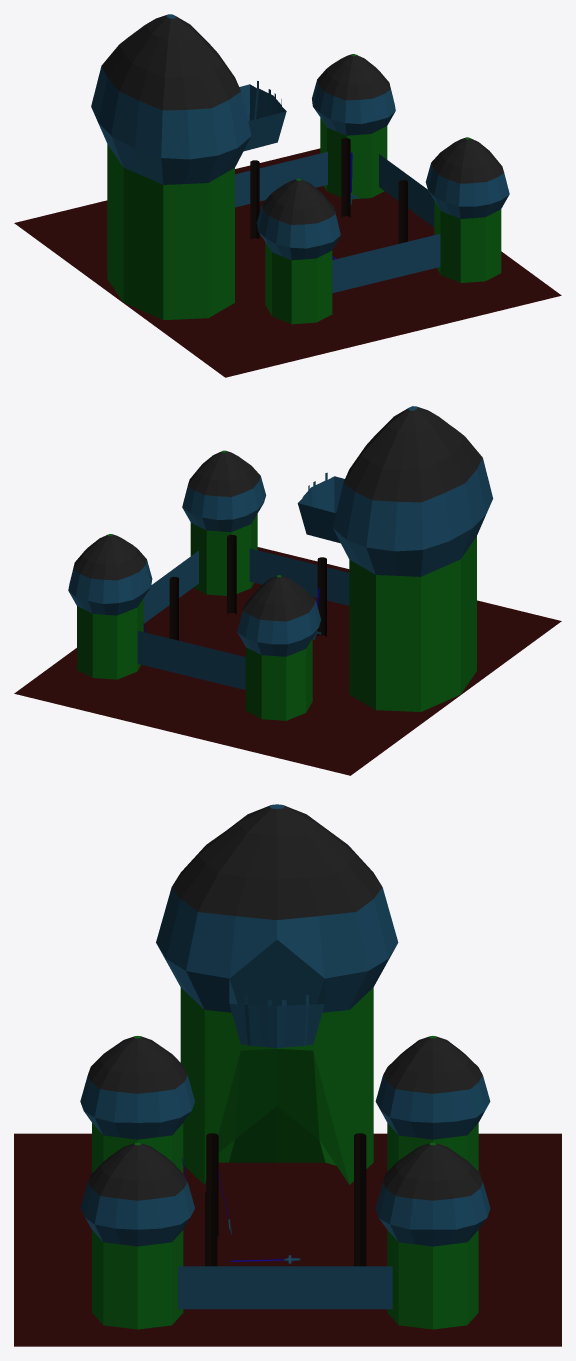
File: SwordsSmith.obj
The picture shows the model from 3 angles, top to bottom: view 1: azimuth 30°, elevation 25°; view 2: azimuth 150°, elevation 25°; view 3: azimuth 270°, elevation 25°; orthographic projection. The views are drawn at different scales.
Parts seen in each view (by area): view 1: Plane, Cube, Plane.004, Plane.001, Plane.002, Plane.007, Plane.008, Plane.003, Cube.002, Cube.003, Cube.001; view 2: Plane, Cube, Plane.005, Plane.002, Plane.001, Plane.008, Plane.007, Plane.003, Cube.001, Cube.004, Cube.002; view 3: Plane, Cube, Plane.002, Plane.001, Plane.004, Plane.005, Plane.003, Cube.001, Cube.002, Cube.004, Cube.003.
Boxes of the visible parts, box(x1,y1,x2,y2) form: Plane: box(91, 14, 286, 320); Cube: box(14, 148, 561, 377); Plane.004: box(256, 178, 340, 324); Plane.001: box(425, 137, 509, 282); Plane.002: box(312, 54, 395, 199); Plane.007: box(332, 234, 440, 293); Plane.008: box(235, 151, 327, 207); Plane.003: box(379, 154, 434, 226); Cube.002: box(341, 138, 350, 217); Cube.003: box(250, 160, 259, 239); Cube.001: box(398, 180, 407, 243); Plane: box(297, 406, 493, 711); Cube: box(14, 547, 561, 775); Plane.005: box(237, 575, 321, 720); Plane.002: box(68, 534, 152, 679); Plane.001: box(182, 450, 266, 595); Plane.008: box(137, 631, 245, 689); Plane.007: box(249, 548, 349, 605); Plane.003: box(143, 550, 198, 623); Cube.001: box(227, 534, 236, 614); Cube.004: box(317, 557, 326, 636); Cube.002: box(169, 576, 178, 640); Plane: box(156, 804, 398, 1184); Cube: box(14, 1133, 561, 1346); Plane.002: box(375, 1142, 490, 1329); Plane.001: box(80, 1142, 194, 1329); Plane.004: box(80, 1035, 194, 1173); Plane.005: box(375, 1036, 490, 1171); Plane.003: box(178, 1266, 392, 1309); Cube.001: box(205, 1190, 217, 1266); Cube.002: box(354, 1190, 366, 1266); Cube.004: box(206, 1133, 218, 1236); Cube.003: box(354, 1133, 366, 1192).
Bounding box in the file's own units: 1.28 × 0.9703 × 1.34.
